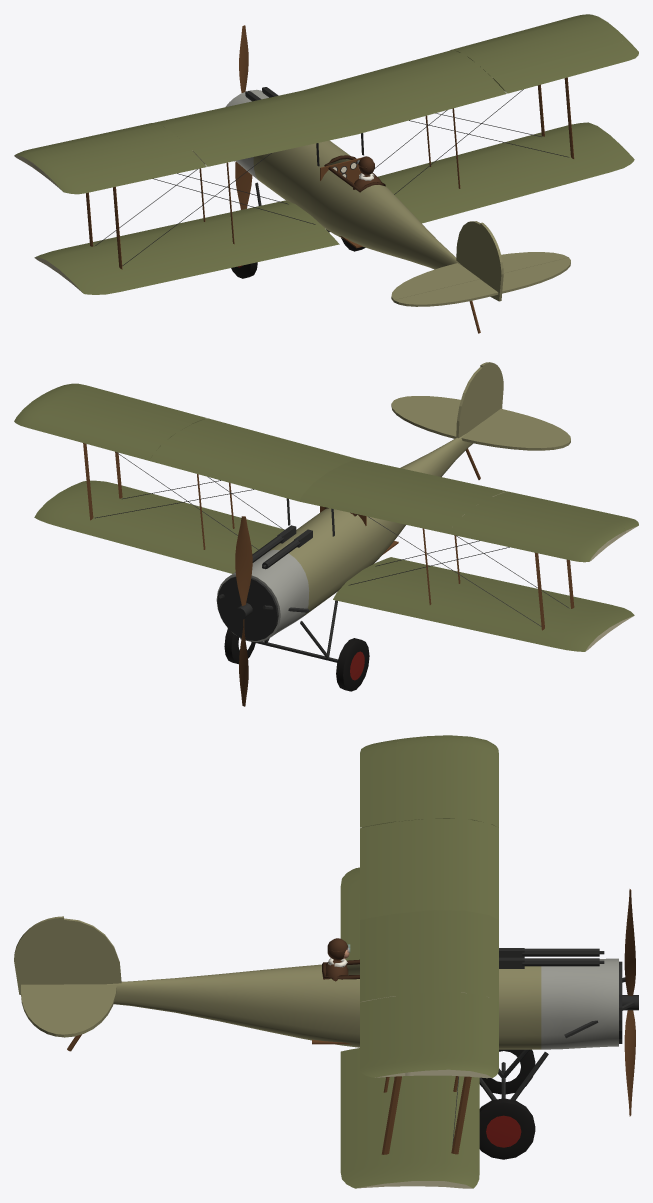
Rendered from spad_xiii.glb.
The picture shows the model from 3 angles, top to bottom: view 1: azimuth 30°, elevation 25°; view 2: azimuth 150°, elevation 25°; view 3: azimuth 270°, elevation 25°; orthographic projection. The views are drawn at different scales.
Visible parts, largest first — view 1: Wing_Upper_R, Wing_Lower_L, Wing_Upper_L, Wing_Lower_R, Fuselage, Aileron_R, Aileron_L, Elevator, Struts, Stabilizer_L, Rudder, Wires (+5 smaller); view 2: Wing_Upper_R, Wing_Upper_L, Wing_Lower_L, Wing_Lower_R, Fuselage, Engine, Elevator, PropBlades, Wheels, Stabilizer_L, Struts, Aileron_R (+7 smaller); view 3: Fuselage, Wing_Upper_L, Wing_Upper_R, Wing_Lower_R, Wheels, Fin, Aileron_L, Rudder, Aileron_R, Stabilizer_R, PropBlades, Guns (+5 smaller).
Boxes of the visible parts, x1,y1,x2,y2 form: Wing_Upper_R: (303,14,625,134); Wing_Lower_L: (34,200,339,294); Wing_Upper_L: (14,90,356,180); Wing_Lower_R: (378,122,634,223); Fuselage: (225,89,462,269); Aileron_R: (492,38,638,93); Aileron_L: (50,150,206,194); Elevator: (394,257,570,306); Struts: (86,77,574,269); Stabilizer_L: (391,263,479,301); Rudder: (480,222,503,301); Wires: (95,89,569,265); Wing_Upper_R: (14,389,356,501); Wing_Upper_L: (299,459,625,562); Wing_Lower_L: (333,557,634,651); Wing_Lower_R: (34,480,284,573); Fuselage: (216,434,473,642); Engine: (217,576,309,640); Elevator: (394,396,570,444); PropBlades: (235,516,252,706); Wheels: (224,628,369,691); Stabilizer_L: (461,422,568,450); Struts: (83,443,574,630); Aileron_R: (51,383,206,423); Fuselage: (106,958,618,1049); Wing_Upper_L: (360,735,498,919); Wing_Upper_R: (360,910,498,1078); Wing_Lower_R: (340,1048,479,1188); Wheels: (479,1049,535,1159); Fin: (64,918,121,984); Aileron_L: (360,738,404,827); Rudder: (14,916,63,994); Aileron_R: (360,996,405,1077); Stabilizer_R: (64,984,116,1037); PropBlades: (622,889,638,1116); Guns: (499,948,604,968).
Size of the model in its own units: 8.25 by 2.71 by 6.51.
